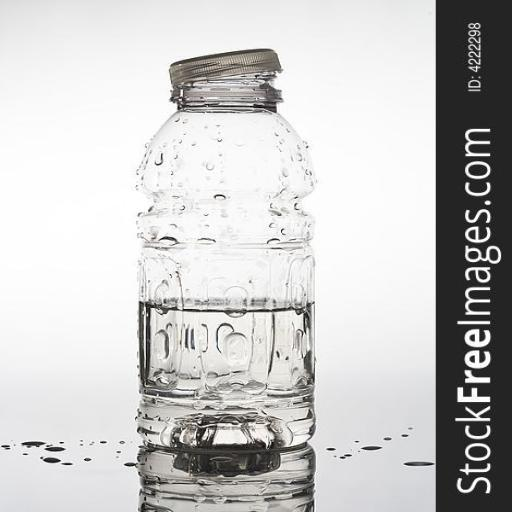bottle: (117, 41, 332, 459)
